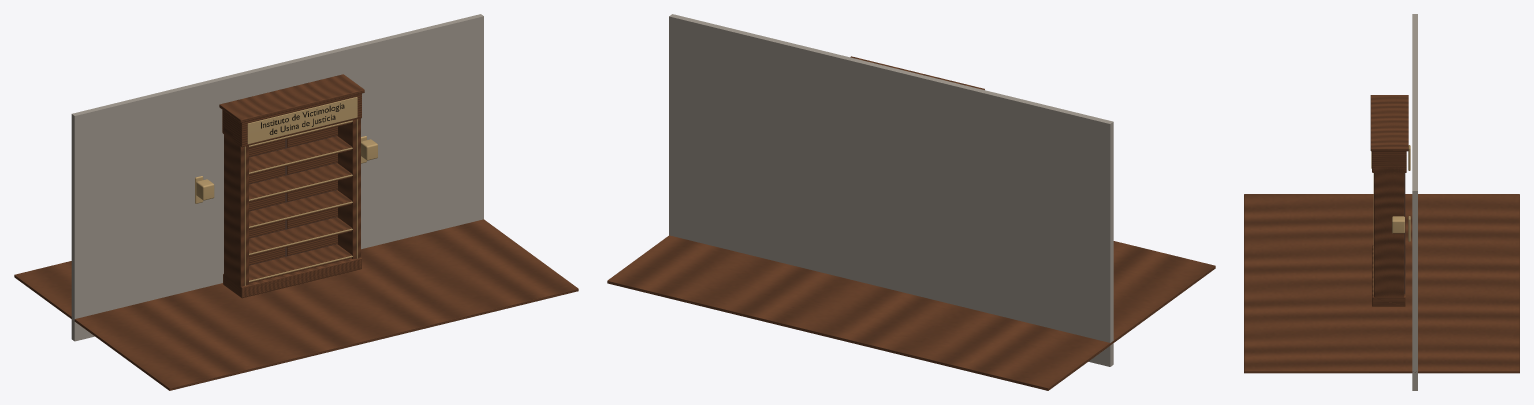
File: ivujus-bookshelf.glb
The picture shows the model from 3 angles, left to right: view 1: azimuth 30°, elevation 25°; view 2: azimuth 150°, elevation 25°; view 3: azimuth 270°, elevation 25°; orthographic projection. The views are drawn at different scales.
Visible parts, largest first — view 1: IVU_Pared, IVU_Suelo, IVU_Montante_-1.04, IVU_Cornisa_superior, IVU_Montante_1.04, IVU_Placa, IVU_Zocalo, IVU_Balda_4, IVU_Balda_0, IVU_Balda_3, IVU_Balda_1, IVU_Balda_2 (+8 smaller); view 2: IVU_Pared, IVU_Suelo; view 3: IVU_Suelo, IVU_Montante_1.04, IVU_Pared, IVU_Cornisa_superior, IVU_Cornisa, IVU_Zocalo.
Part boxes in pixels (box(x1,y1,x2,y2)): IVU_Pared: box(71, 14, 483, 341); IVU_Suelo: box(14, 219, 578, 390); IVU_Montante_-1.04: box(224, 128, 248, 286); IVU_Cornisa_superior: box(219, 74, 364, 122); IVU_Montante_1.04: box(337, 118, 360, 258); IVU_Placa: box(247, 97, 357, 144); IVU_Zocalo: box(223, 257, 361, 298); IVU_Balda_4: box(249, 136, 351, 174); IVU_Balda_0: box(249, 244, 351, 283); IVU_Balda_3: box(249, 163, 351, 202); IVU_Balda_1: box(249, 217, 351, 256); IVU_Balda_2: box(249, 190, 351, 229); IVU_Pared: box(669, 14, 1113, 366); IVU_Suelo: box(607, 235, 1215, 390); IVU_Suelo: box(1244, 194, 1519, 373); IVU_Montante_1.04: box(1374, 167, 1404, 297); IVU_Pared: box(1412, 14, 1417, 390); IVU_Cornisa_superior: box(1370, 95, 1408, 151); IVU_Cornisa: box(1372, 151, 1406, 172); IVU_Zocalo: box(1372, 245, 1405, 306).
Size of the model in its own units: 7.6 by 4 by 5.
Materials: 5 (1 with a texture image).
